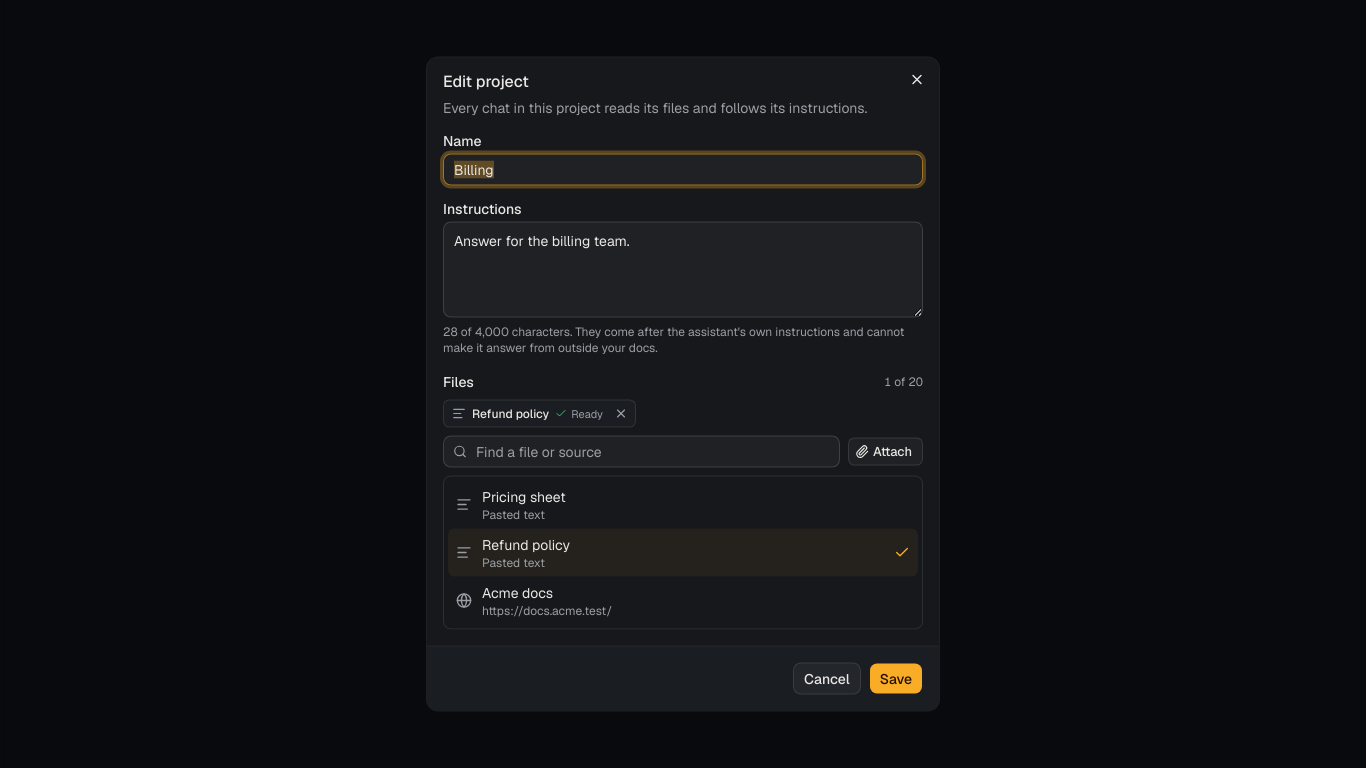
Scenario: ProjectDialog › refuses a name another project has
This screenshot has width=1366, height=768.
Replace the text in the field labelled "Name" with "onboarding": (683, 170) [443,154,923,186]
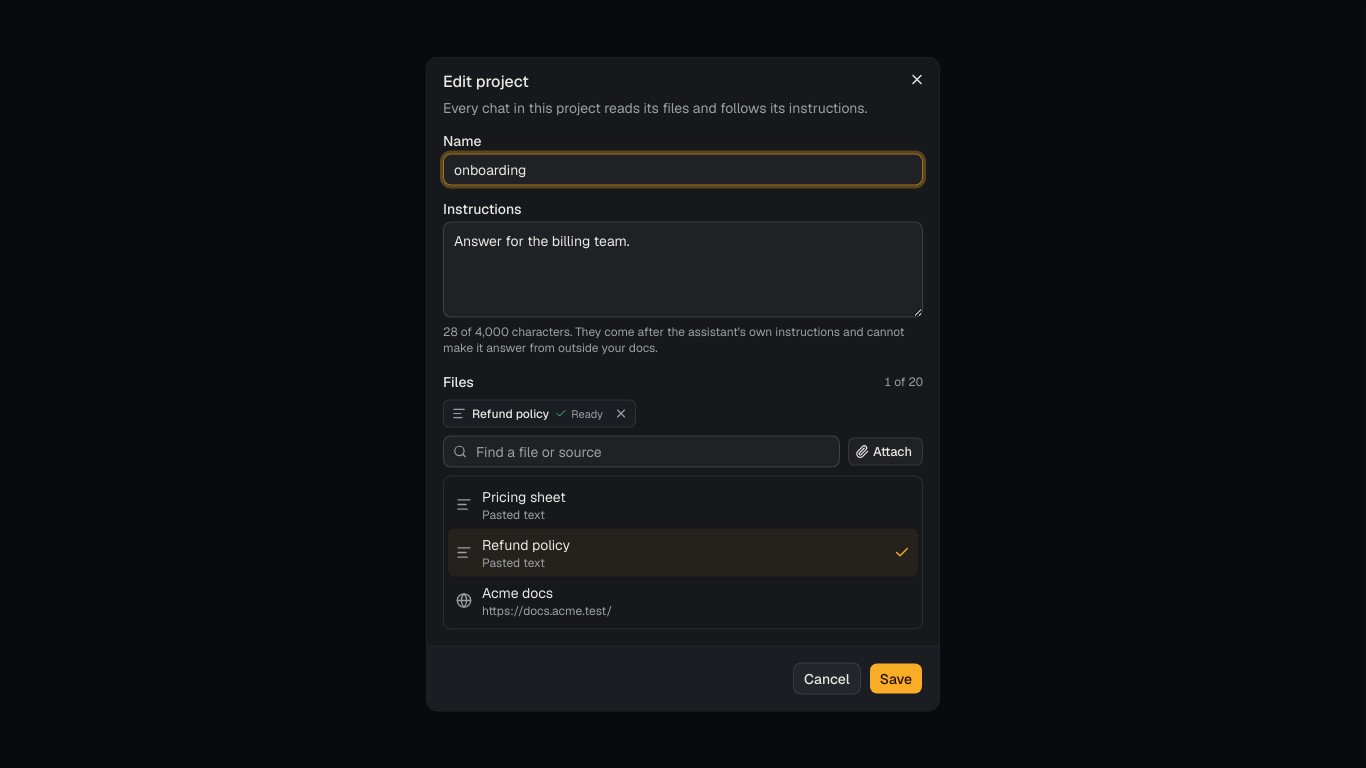
Click the button "Save": (896, 678) [869,662,923,694]
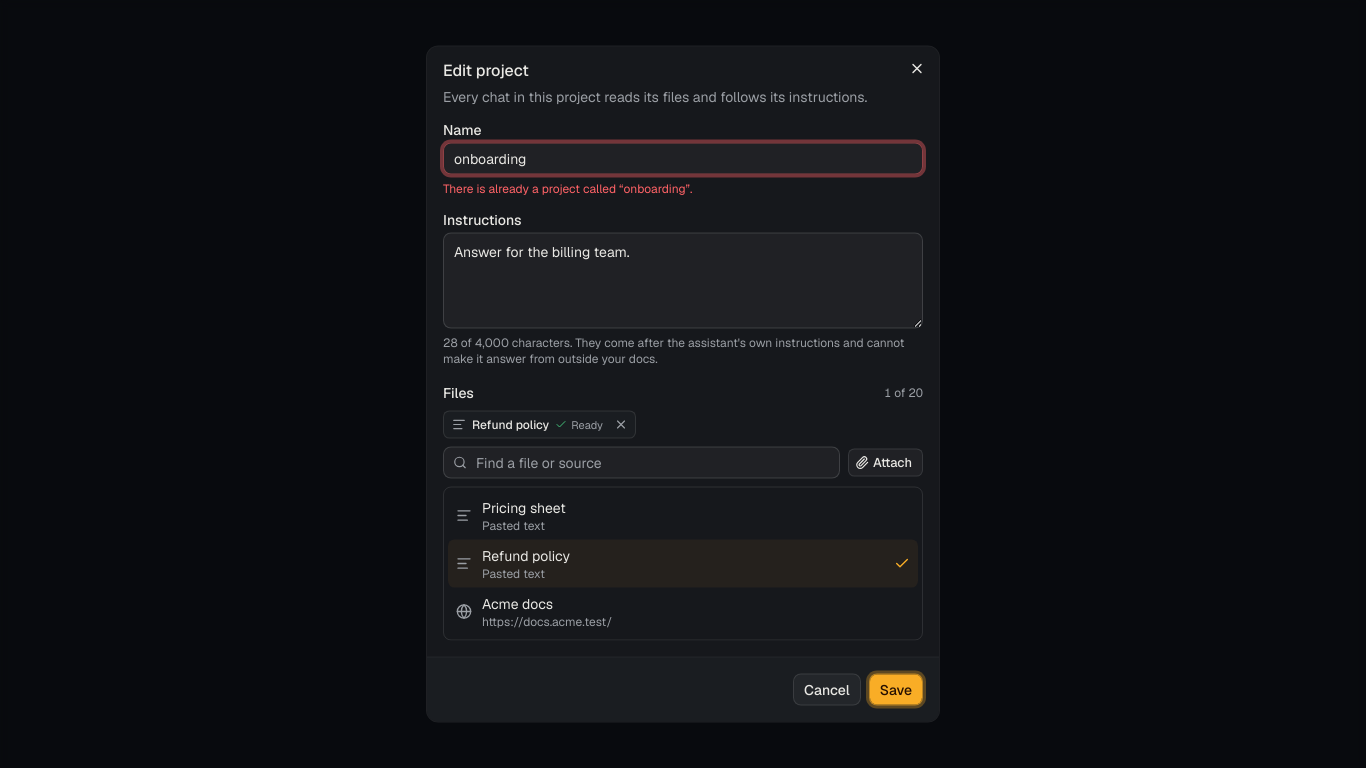
Check: the message reads "There is already a project called “onboarding”.", box [443,180,692,196]
